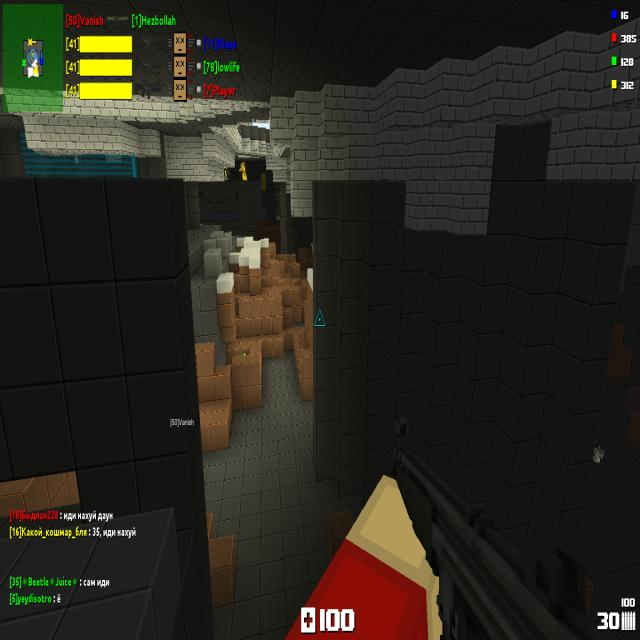enemy: (239, 160, 247, 182), (225, 168, 229, 180)
